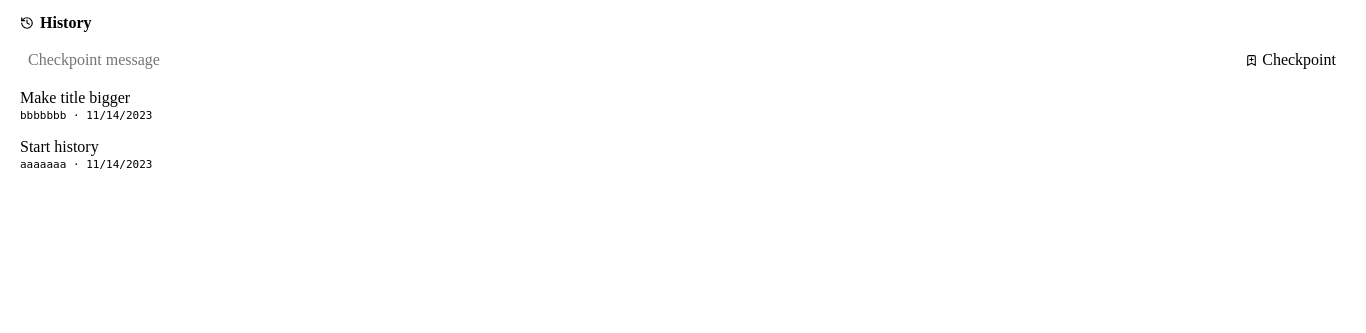
Test: HistoryPanel › shows a commit's diff when clicked
Click the button "Make title bigger bbbbbbb · 11/14/2023" at (75, 98), box x1=8 y1=81 x2=1358 y2=130
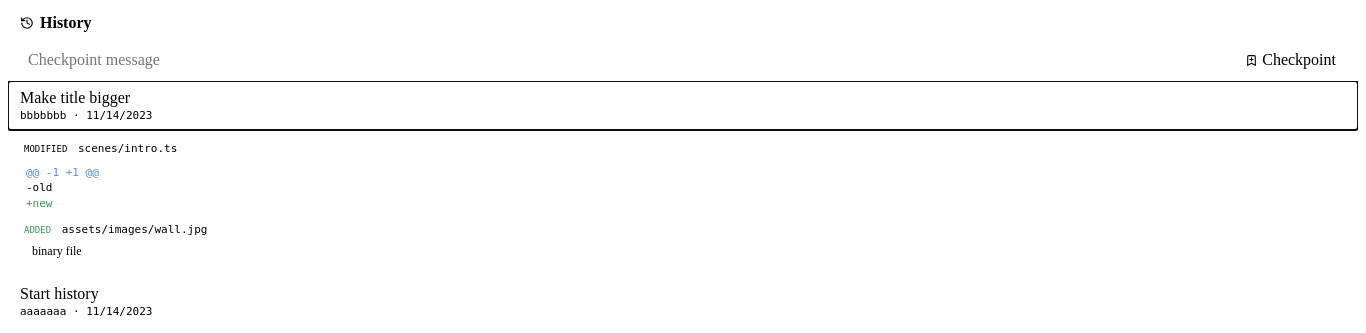
expect the text "binary file" is shown: met, box x1=32 y1=244 x2=82 y2=258
